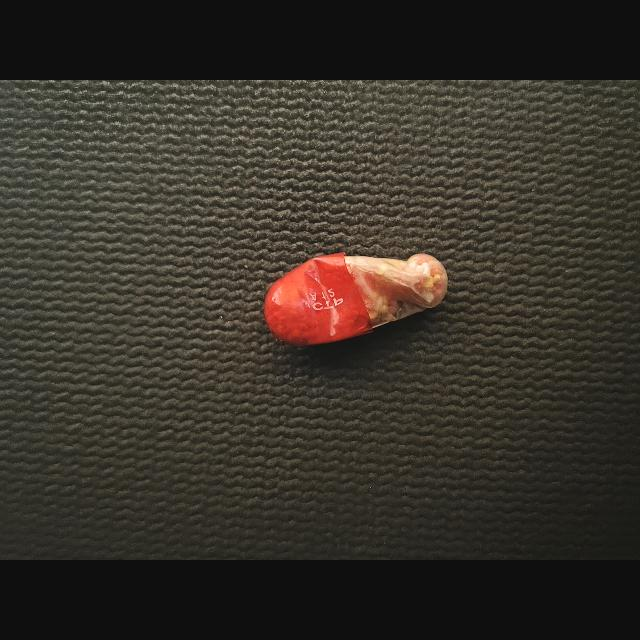Defective Capsule: (264, 252, 448, 346)
